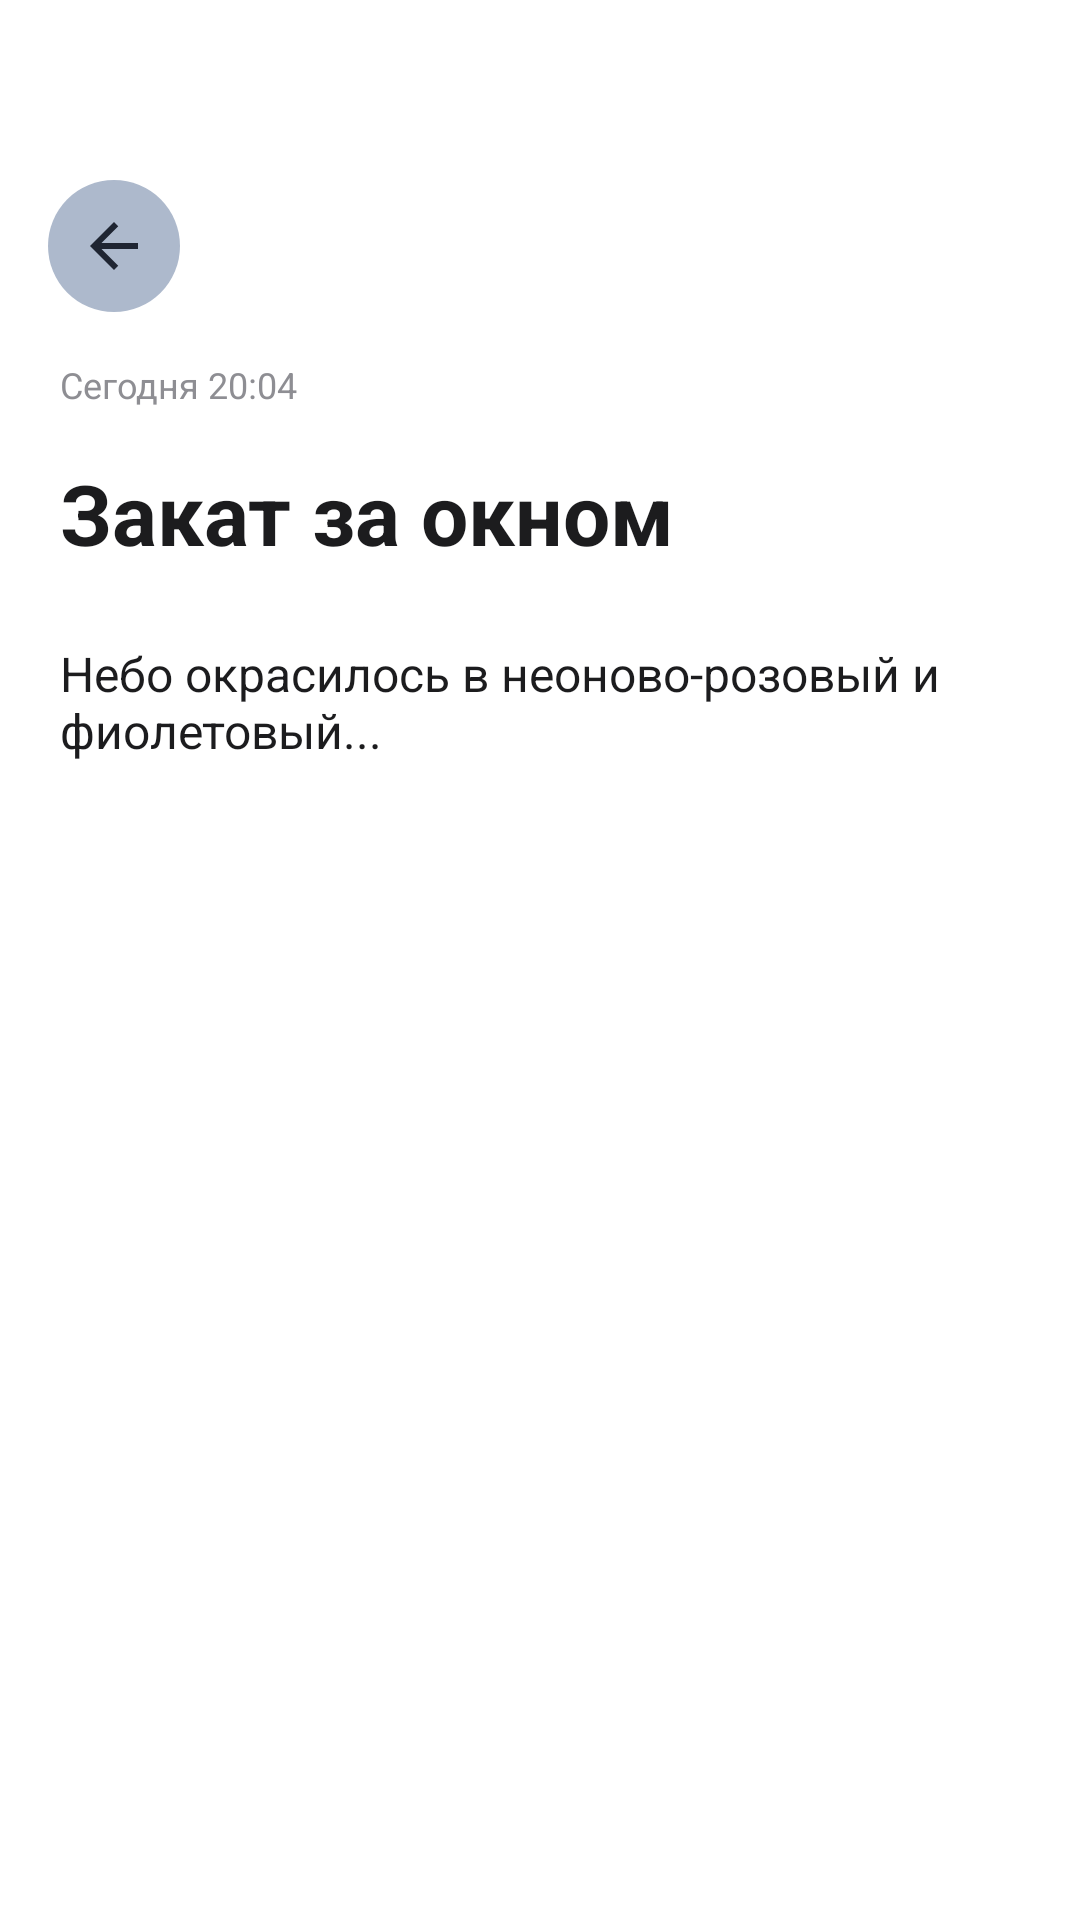

Screen size 1080 × 1920. Icon name, then its box in pixels as (x1, y1, x2, y2):
Назад: (48, 180, 180, 312)
